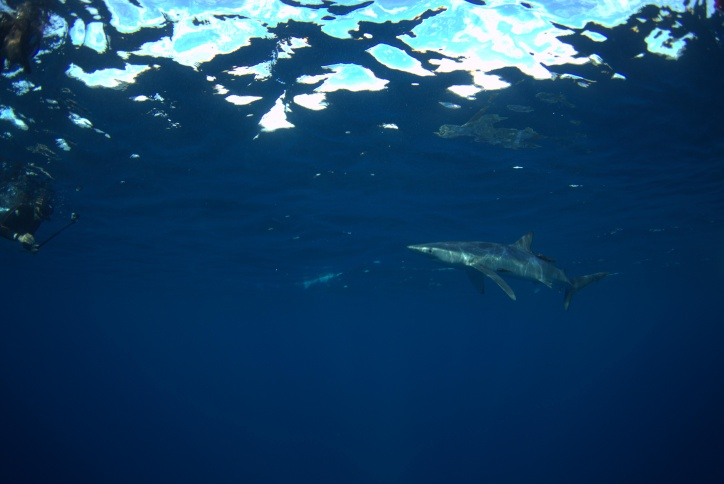Azul: (406, 208, 617, 316)
